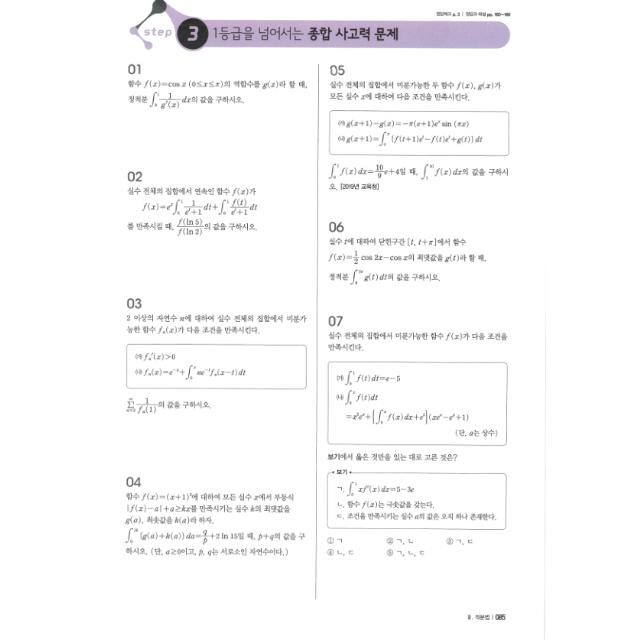multiple: (319, 309, 513, 565)
short: (322, 61, 514, 196), (120, 292, 310, 418), (120, 472, 310, 560), (322, 214, 492, 294), (120, 167, 266, 247), (122, 58, 310, 119)
